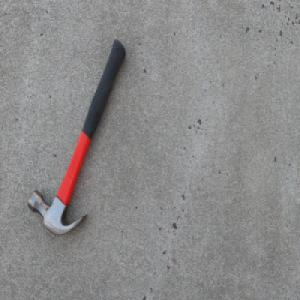Hammer: (27, 38, 126, 238)
